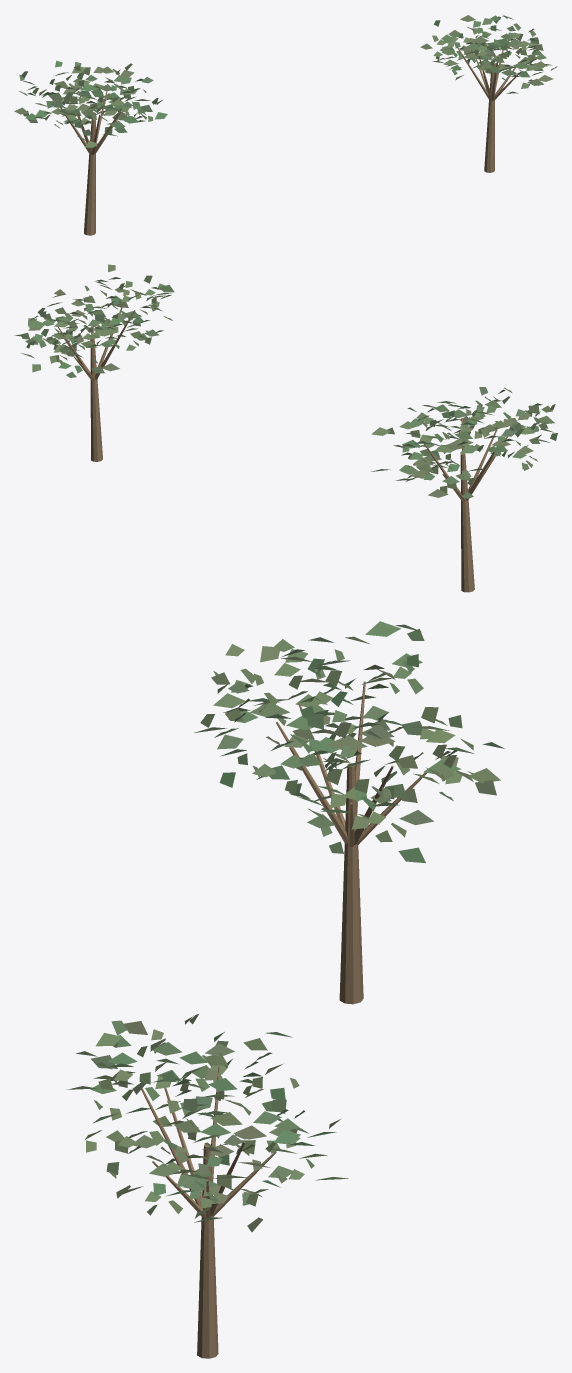
Rendered from street_2_7.glb.
3 renders of one model, top to bottom at view 1: azimuth 30°, elevation 25°; view 2: azimuth 150°, elevation 25°; view 3: azimuth 270°, elevation 25°, orthographic. The views are drawn at different scales.
Visible parts, largest first — view 1: leaf.006, wood.074; view 2: leaf.006, wood.074; view 3: leaf.006, wood.074.
Part boxes in pixels (x1,y1,x2,y2): leaf.006: (14,14,557,147); wood.074: (55,46,521,235); leaf.006: (14,264,557,498); wood.074: (57,302,507,592); leaf.006: (66,621,504,1232); wood.074: (141,681,426,1358).
Size of what is drawn, in the model's own units: 15.02 by 4.82 by 5.81.
